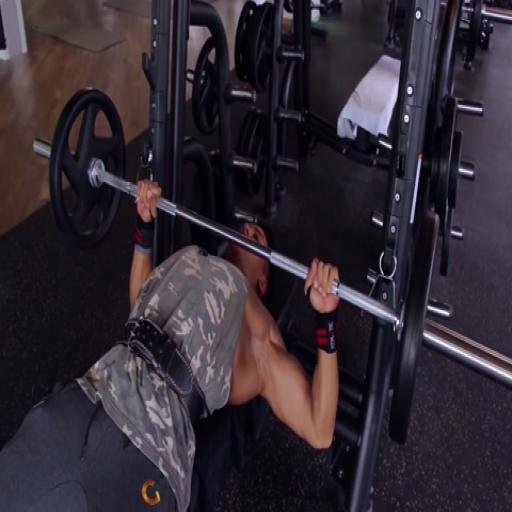exercise: (0, 176, 345, 510)
